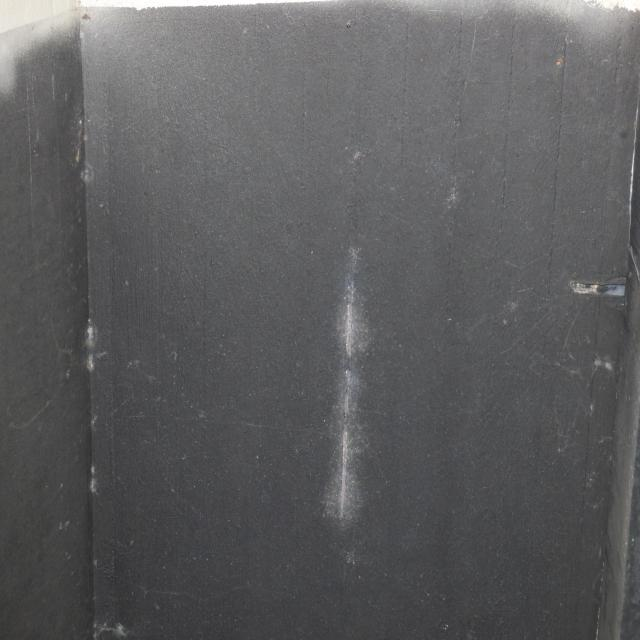concrete spalling: (569, 281, 625, 296)
